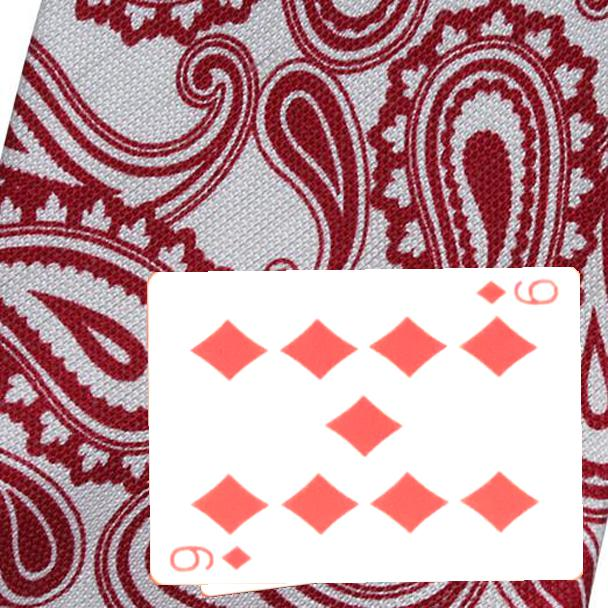d09: (472, 276, 561, 309), (166, 542, 254, 575)
